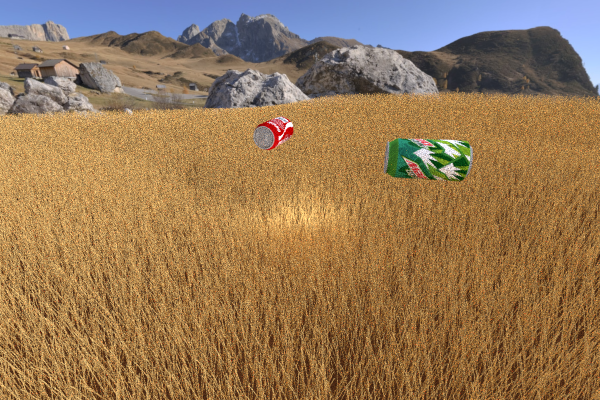bottle: (0, 188, 440, 400)
can: (383, 138, 472, 181), (253, 116, 293, 150)
